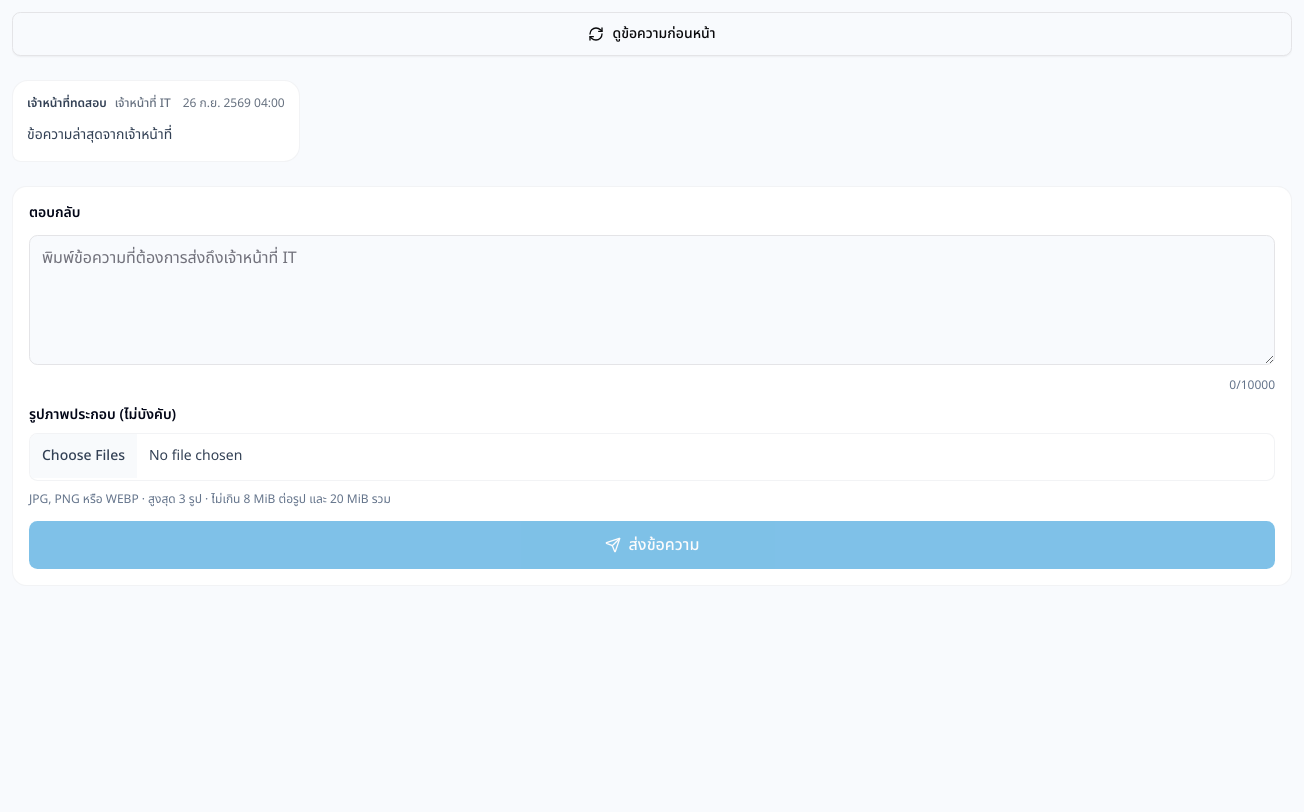
LiffITConversation › loads older history with the server cursor and keeps chronological ordering
Expected: the text "ข้อความล่าสุดจากเจ้าหน้าที่" is shown, [27, 124, 172, 145]
Click the button "ดูข้อความก่อนหน้า" at [652, 34], box [12, 12, 1292, 56]
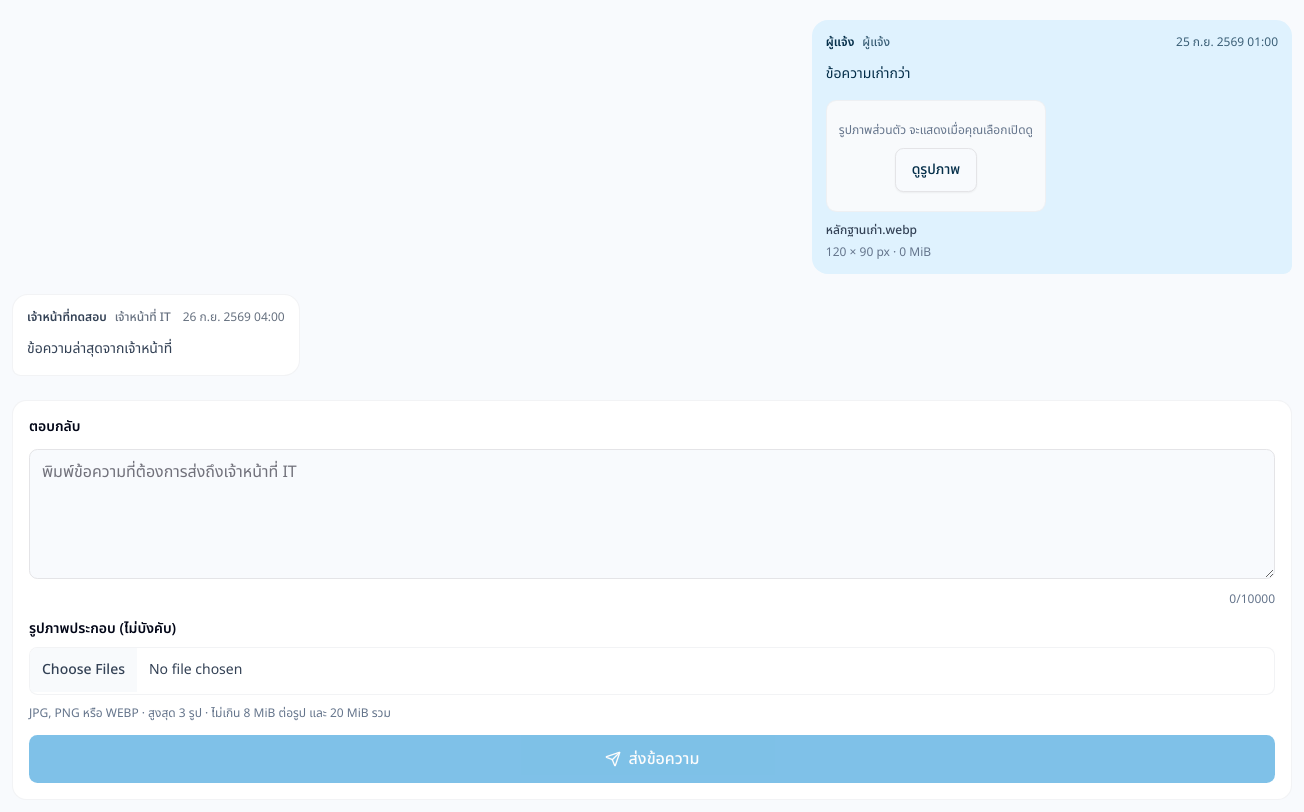
Expected: the button "ดูรูปภาพ" is shown, [895, 148, 977, 192]
